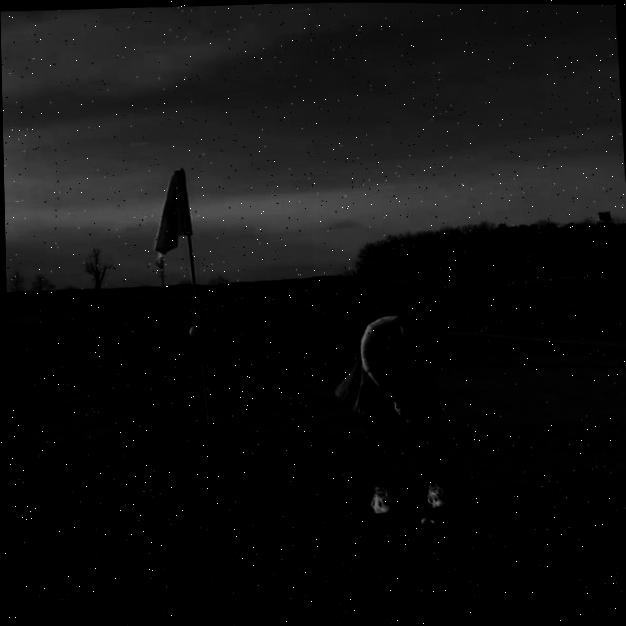ClubHead: (426, 515, 447, 525)
GolfBall: (417, 516, 427, 524)
